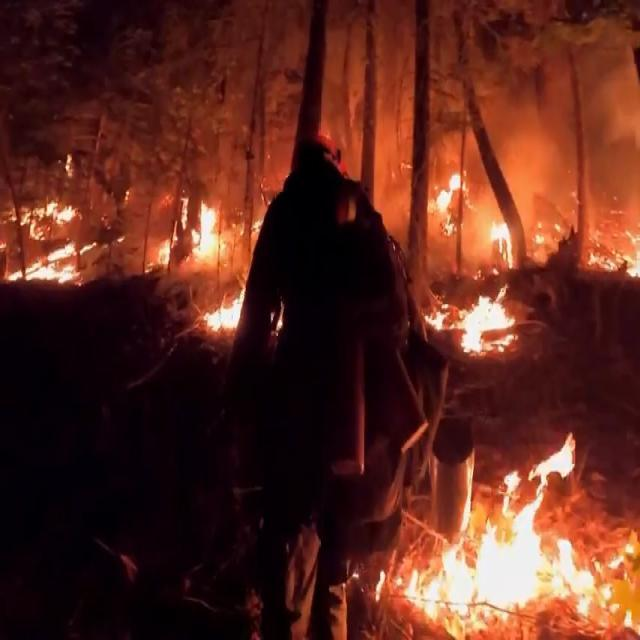Fire: (388, 437, 640, 640), (3, 136, 247, 332), (413, 162, 640, 356)
